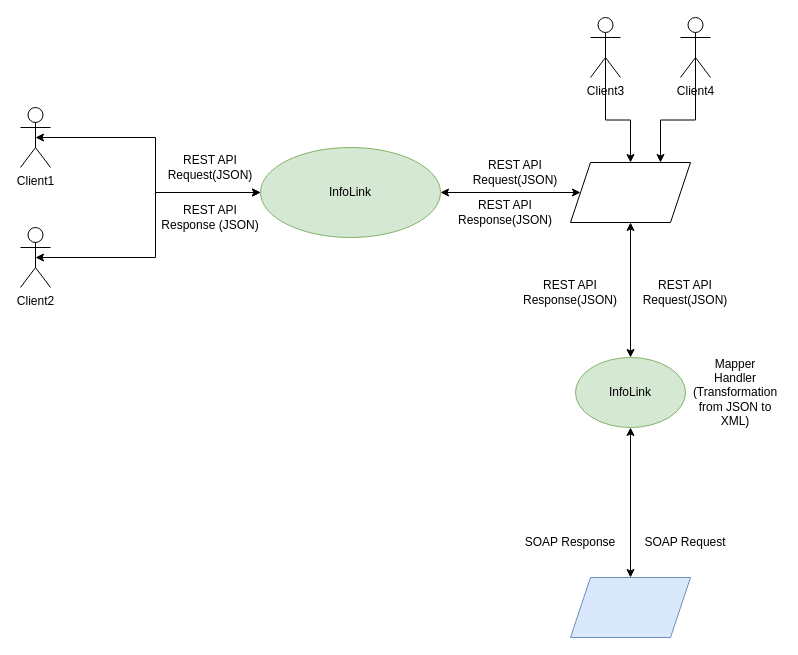
This 798x655 diagram has some shape labels left out. The centre of each missing label's shape, as x and y in pixels:
"ETrack" belongs at (x=630, y=607).
"ICOS" belongs at (x=630, y=192).
